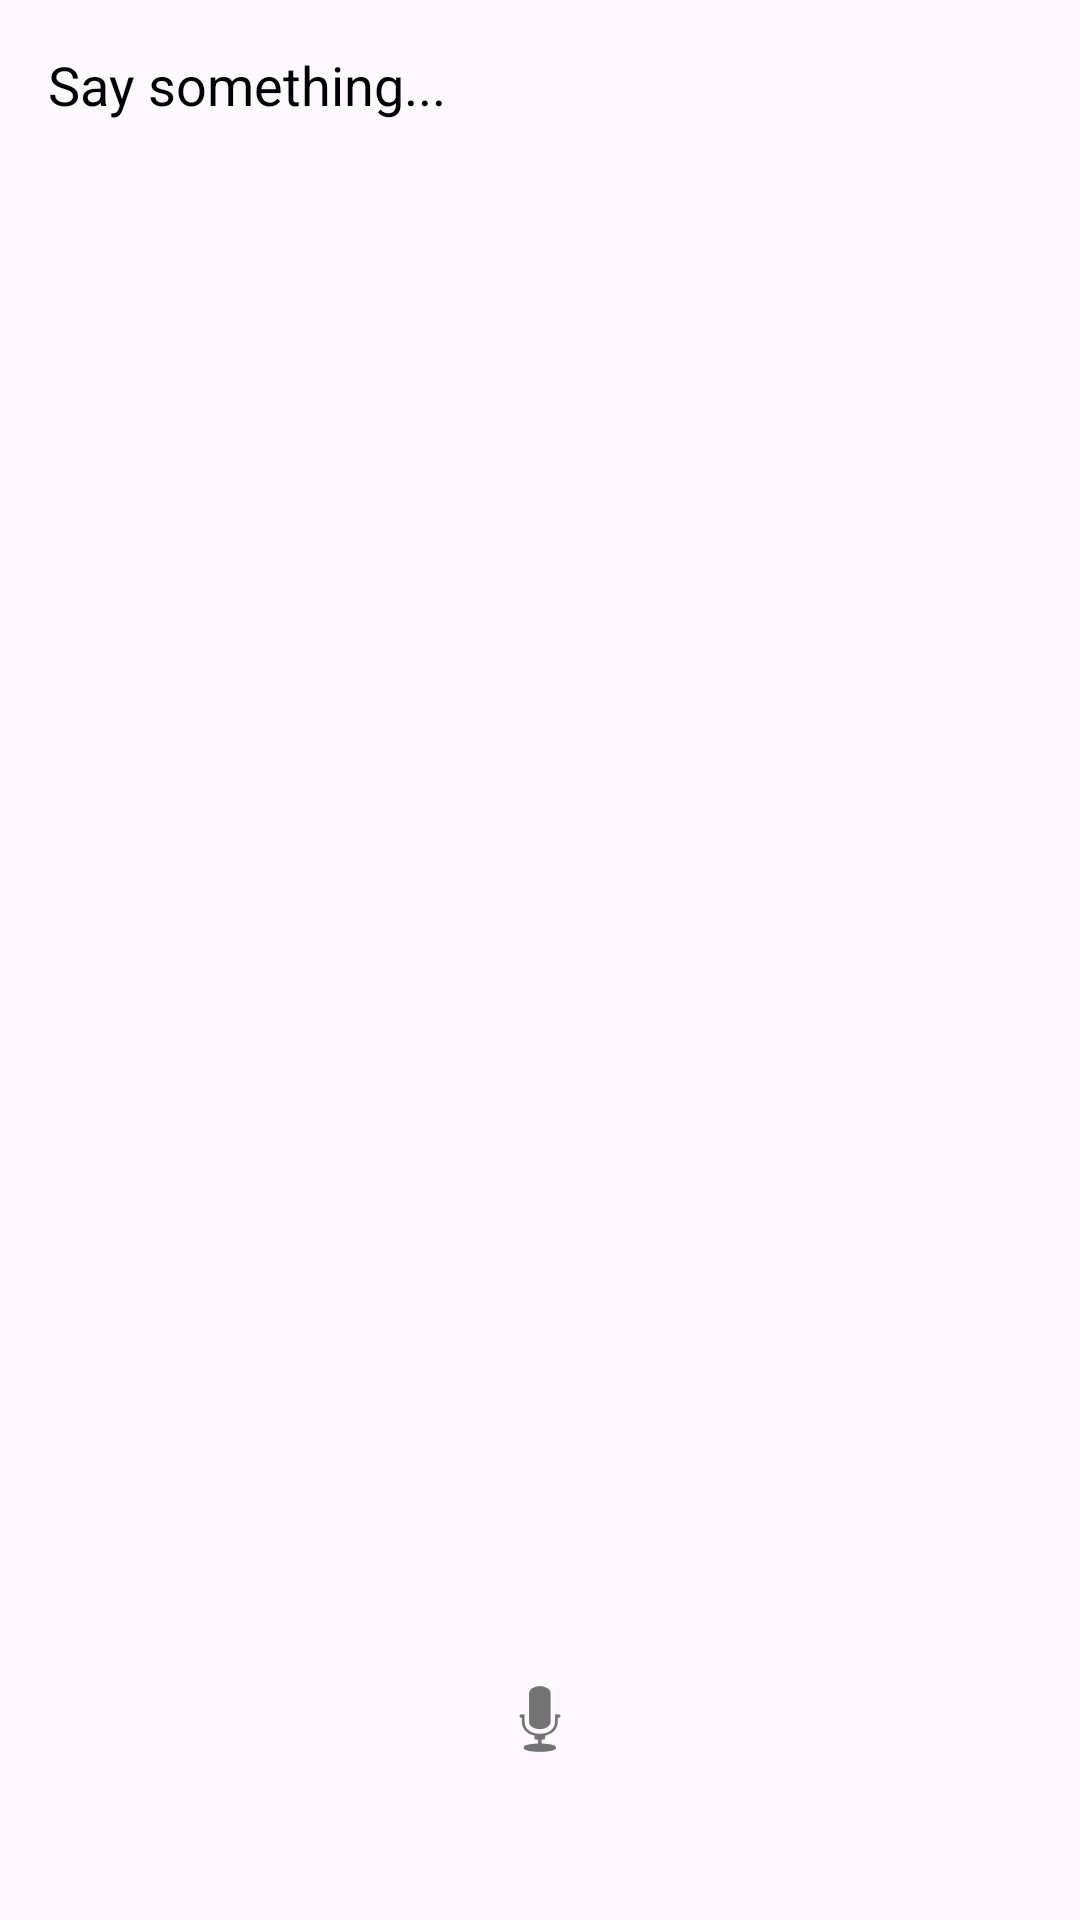

Icons on this 1080px x 1920px Android screen, each with its box as (x1, y1, x2, y2):
Speak: (519, 1686, 561, 1752)
